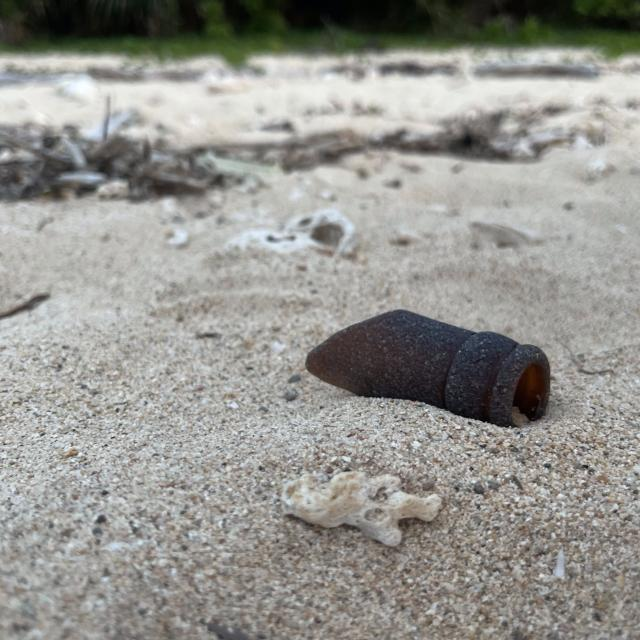coral: (276, 460, 437, 556)
seaweed: (0, 107, 283, 206)
trash: (300, 298, 566, 442)
